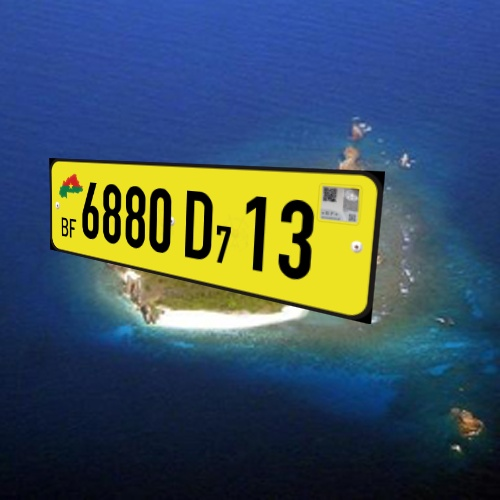plate: (36, 137, 402, 343)
